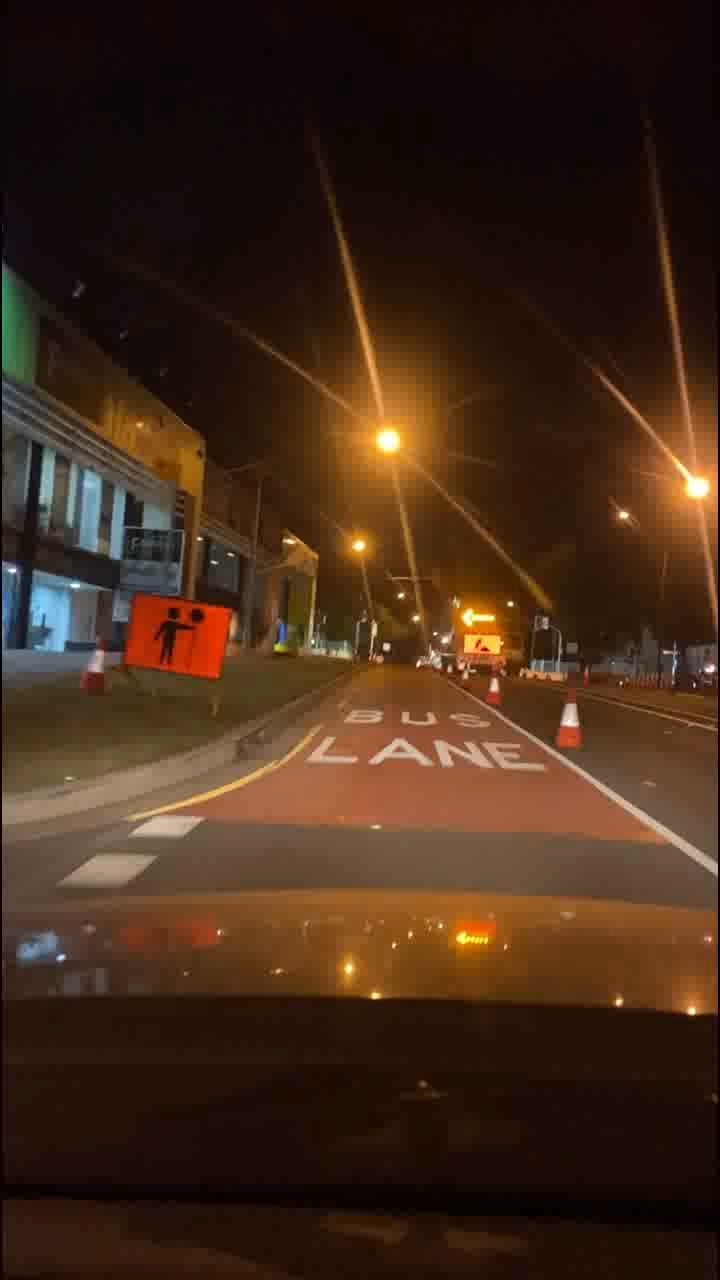prepare to stop board: (114, 589, 239, 691)
road cone: (552, 677, 585, 763), (475, 669, 518, 717)
truck: (425, 602, 524, 675)
